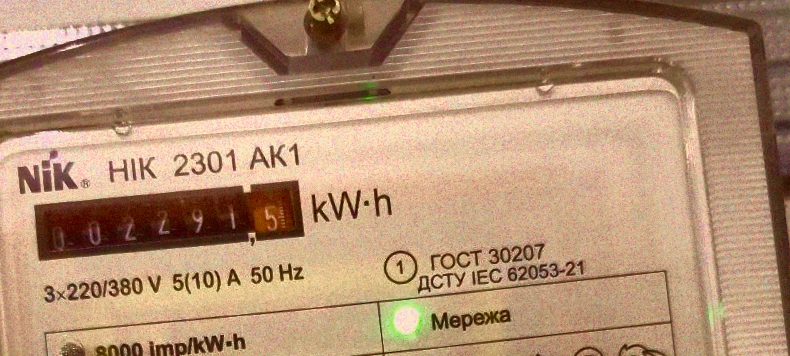0: (46, 220, 67, 251), (84, 215, 103, 246)
1: (221, 198, 239, 233)
2: (118, 211, 138, 242), (153, 205, 170, 236)
5: (260, 200, 280, 232)
9: (187, 203, 206, 235)
screen: (26, 166, 310, 274)
